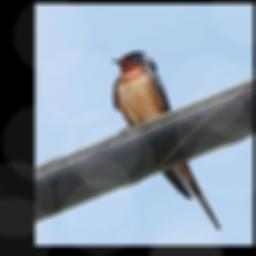Swallow: (110, 49, 221, 230)
